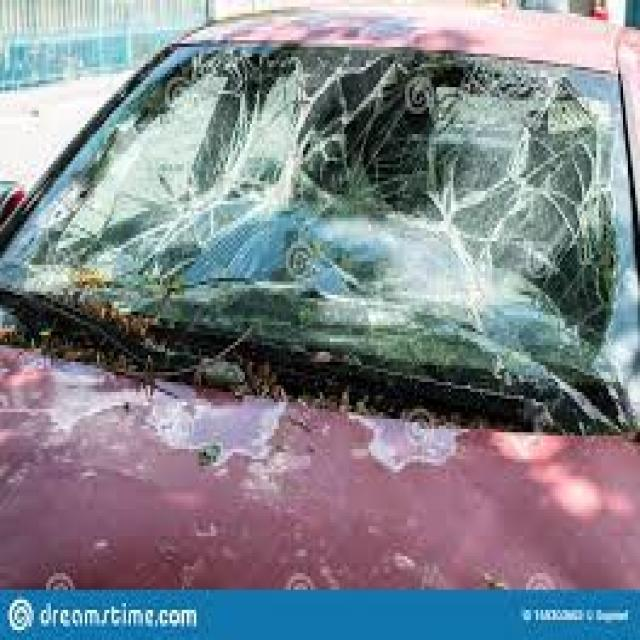damaged-windscreen: (0, 35, 640, 420)
